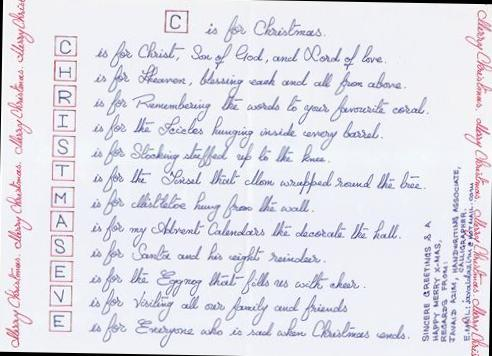text: (86, 311, 411, 354), (91, 89, 431, 126), (91, 62, 408, 101), (89, 214, 403, 253), (90, 165, 428, 199), (91, 113, 385, 152), (93, 38, 389, 73), (87, 289, 348, 328), (89, 138, 333, 176), (88, 266, 366, 299), (87, 189, 316, 225), (88, 240, 328, 274), (203, 13, 327, 46), (56, 89, 73, 106), (55, 137, 70, 156), (54, 162, 70, 178), (52, 264, 68, 280), (50, 288, 66, 304), (58, 64, 73, 80), (55, 113, 71, 128), (54, 214, 69, 230), (51, 314, 66, 330), (58, 38, 72, 55), (53, 191, 69, 205), (54, 238, 68, 254), (169, 13, 182, 30)
